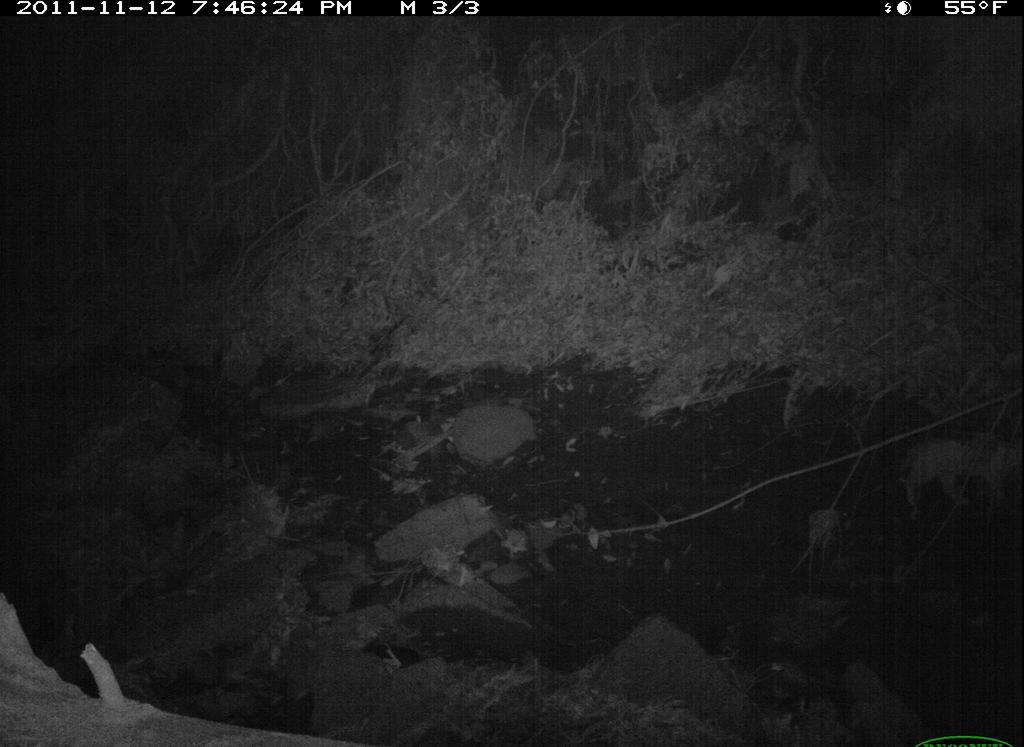cat: (889, 431, 1022, 523)
